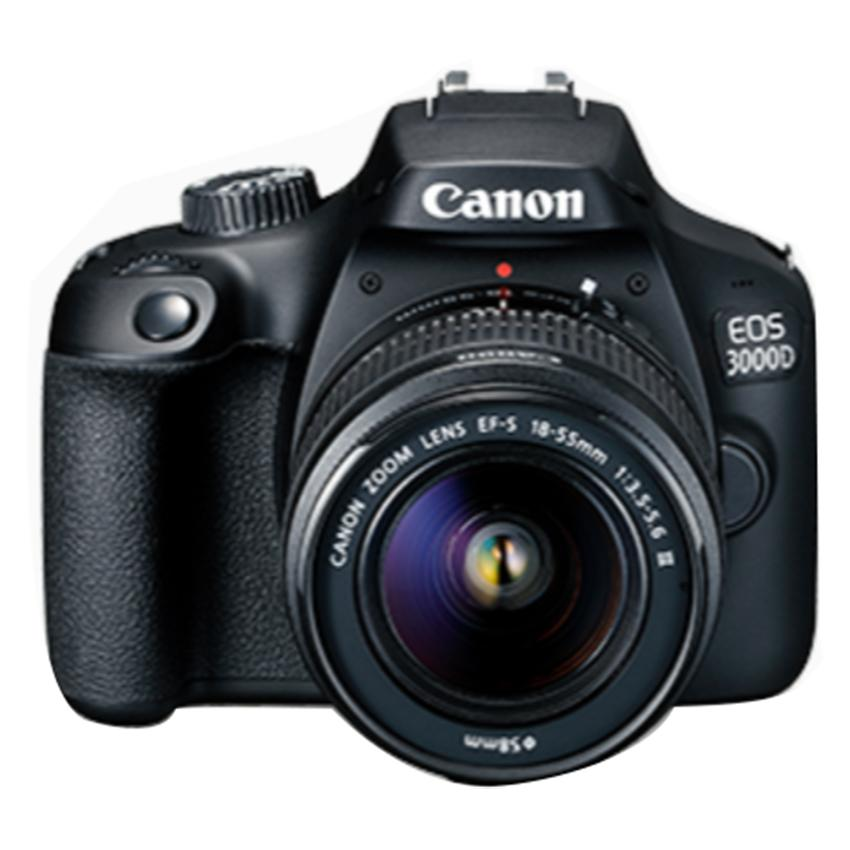kamera: (29, 62, 831, 809)
